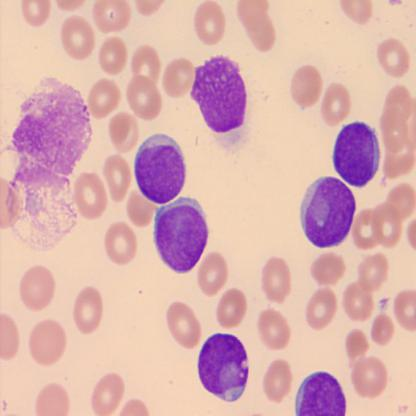Blast: (129, 128, 190, 208), (153, 192, 211, 275), (298, 174, 358, 251), (196, 328, 254, 403), (330, 119, 384, 190)
